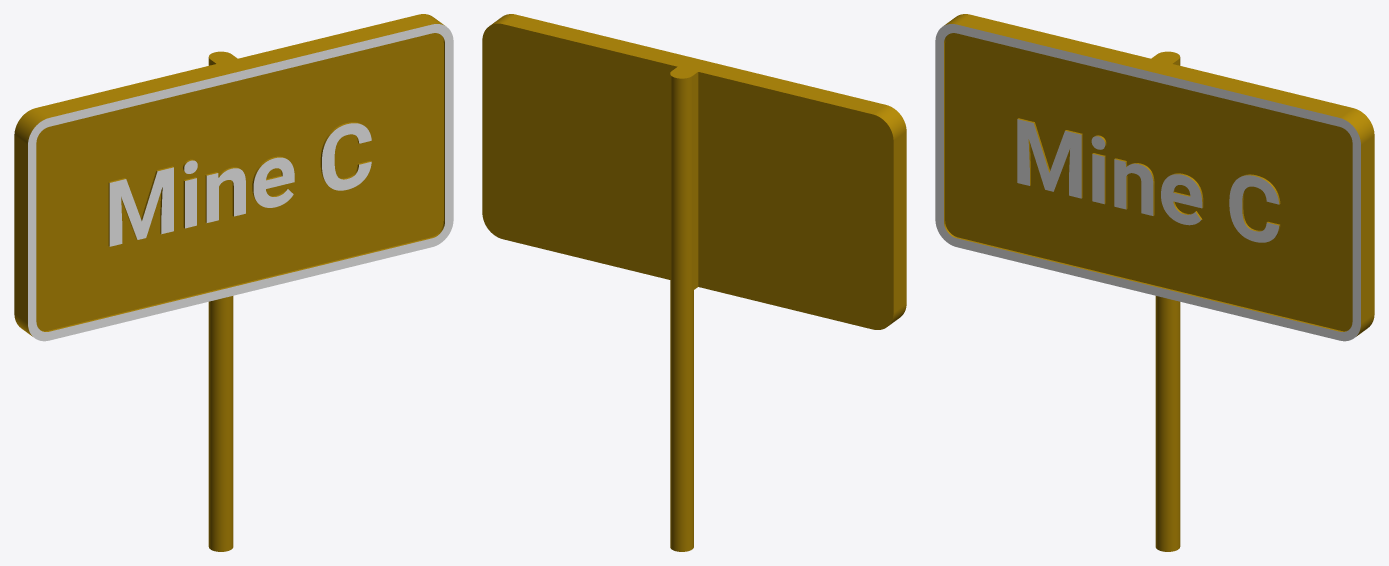
The model's file is place_C.fbx.
The picture shows the model from 3 angles, left to right: view 1: azimuth 30°, elevation 25°; view 2: azimuth 150°, elevation 25°; view 3: azimuth 330°, elevation 25°; orthographic projection. The views are drawn at different scales.
Parts seen in each view (by area): view 1: Part 1; view 2: Part 1; view 3: Part 1.
Part boxes in pixels (x1,y1,x2,y2): Part 1: [14, 14, 453, 551]; Part 1: [482, 14, 906, 551]; Part 1: [935, 14, 1374, 551].
Size of the model in its own units: 400 by 440 by 41.99.
